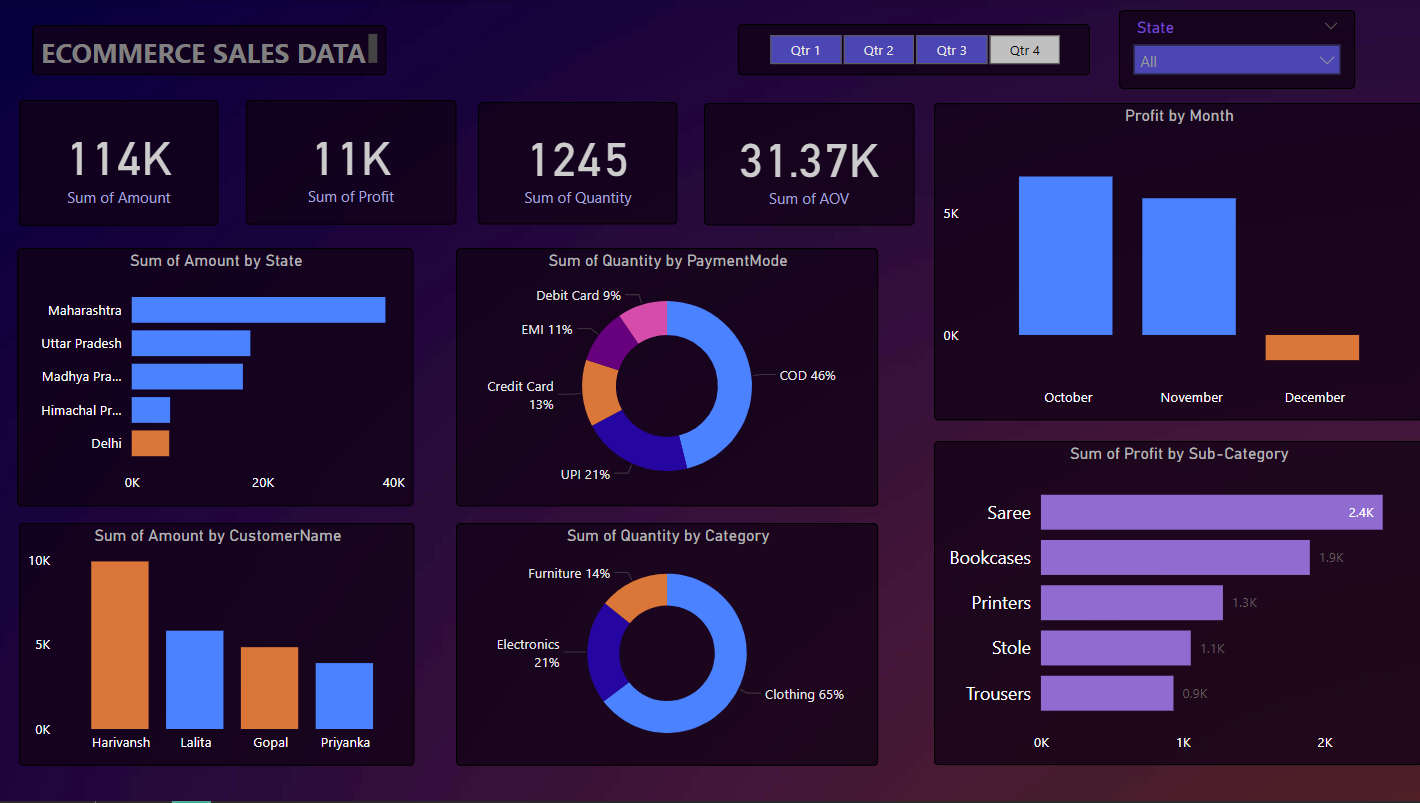

The dashboard page shown, as its layout file describes it:
{"tool":"powerbi","page":{"name":"Page 1","canvas":[1280,720],"ordinal":0},"visuals":[{"type":"textbox","box":[31.3,23,318.2,45.1],"z":0},{"type":"columnChart","title":"Profit by Month","fields":{"Category":["Orders.Order Date.Variation.Date Hierarchy.Month"],"Y":["Details.Profit"]},"box":[841.4,93.8,438.6,285.1],"z":1000},{"type":"clusteredBarChart","fields":{"Category":["Details.Sub-Category"],"Y":["Details.Profit"]},"box":[841.4,397.2,438.6,291.5],"z":2000},{"type":"donutChart","fields":{"Category":["Details.Category"],"Y":["Details.Quantity"]},"box":[412,470.8,378.9,217.9],"z":3000},{"type":"donutChart","fields":{"Y":["Details.Quantity"],"Category":["Details.PaymentMode"]},"box":[412,223.4,378.9,231.7],"z":4000},{"type":"card","fields":{"Values":["Details.Amount"]},"box":[19.3,91,179.3,113.1],"z":5000},{"type":"card","fields":{"Values":["Details.Quantity"]},"box":[432.2,92.9,179.3,110.3],"z":6000},{"type":"card","fields":{"Values":["Details.AOV"]},"box":[634.5,93.8,188.5,110.3],"z":7000},{"type":"card","fields":{"Values":["Details.Profit"]},"box":[223.4,91,188.5,112.2],"z":8000},{"type":"clusteredBarChart","fields":{"Category":["Orders.State"],"Y":["Details.Amount"]},"box":[18.4,223.4,355.9,231.7],"z":9000},{"type":"columnChart","fields":{"Y":["Details.Amount"],"Category":["Orders.CustomerName"]},"box":[19.3,470.8,354.9,217.9],"z":10000},{"type":"slicer","fields":{"Values":["Orders.Order Date.Variation.Date Hierarchy.Quarter"]},"box":[664.8,22.1,316.3,46],"z":10003},{"type":"slicer","fields":{"Values":["Orders.State"]},"box":[1006.9,10.1,212.4,70.8],"z":10004}]}

Visuals, with their boxes in screenshot pixels (x1, y1, x2, y2), scaled from the page's 1280x720 canvas onto the 1420x803 screenshot:
textbox: {"x1": 35, "y1": 26, "x2": 388, "y2": 76}
"Profit by Month" columnChart: {"x1": 933, "y1": 105, "x2": 1419, "y2": 423}
clusteredBarChart - Details.Sub-Category x Details.Profit: {"x1": 933, "y1": 443, "x2": 1419, "y2": 768}
donutChart - Details.Category x Details.Quantity: {"x1": 457, "y1": 525, "x2": 877, "y2": 768}
donutChart - Details.Quantity x Details.PaymentMode: {"x1": 457, "y1": 249, "x2": 877, "y2": 508}
card - Details.Amount: {"x1": 21, "y1": 101, "x2": 220, "y2": 228}
card - Details.Quantity: {"x1": 479, "y1": 104, "x2": 678, "y2": 227}
card - Details.AOV: {"x1": 704, "y1": 105, "x2": 913, "y2": 228}
card - Details.Profit: {"x1": 248, "y1": 101, "x2": 457, "y2": 227}
clusteredBarChart - Orders.State x Details.Amount: {"x1": 20, "y1": 249, "x2": 415, "y2": 508}
columnChart - Details.Amount x Orders.CustomerName: {"x1": 21, "y1": 525, "x2": 415, "y2": 768}
slicer - Orders.Order Date.Variation.Date Hierarchy.Quarter: {"x1": 738, "y1": 25, "x2": 1088, "y2": 76}
slicer - Orders.State: {"x1": 1117, "y1": 11, "x2": 1353, "y2": 90}
